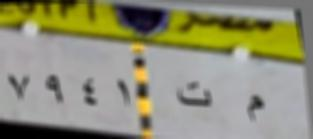1: (111, 72, 135, 112)
4: (75, 75, 102, 112)
7: (4, 70, 36, 106)
9: (43, 71, 73, 108)
meem: (237, 88, 269, 126)
taa: (172, 78, 218, 115)
